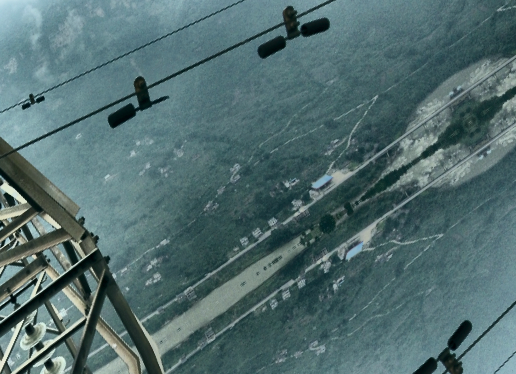damper: (254, 4, 335, 60), (19, 92, 47, 110)
damper_defect: (105, 72, 174, 129)
